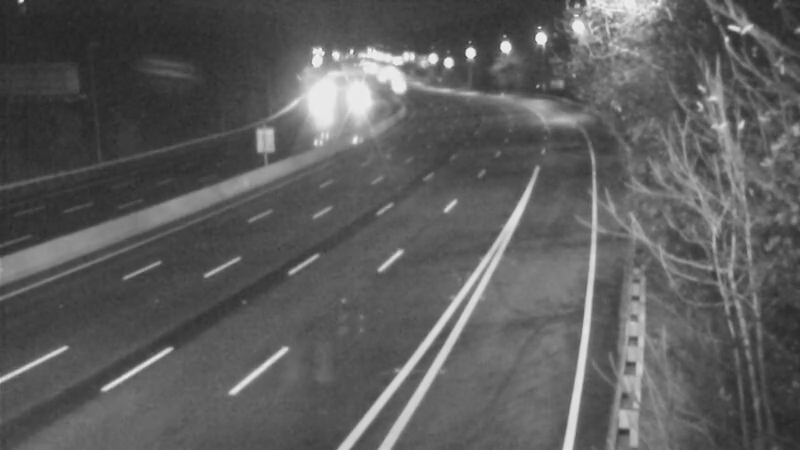vehicle: (369, 62, 419, 112), (291, 80, 341, 130), (331, 76, 381, 126)
